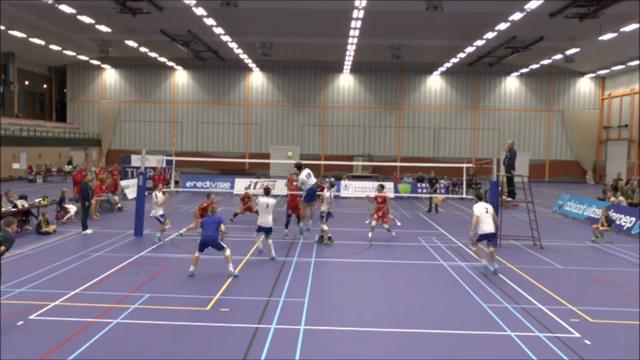Attack: (285, 157, 317, 235)
Player: (188, 204, 237, 276), (470, 193, 497, 273), (367, 184, 395, 241), (178, 192, 215, 235), (256, 187, 276, 260), (316, 181, 335, 244), (150, 184, 169, 242), (284, 174, 300, 238), (229, 187, 257, 222), (388, 207, 400, 225)
ball: (285, 150, 295, 163), (369, 249, 369, 249)
